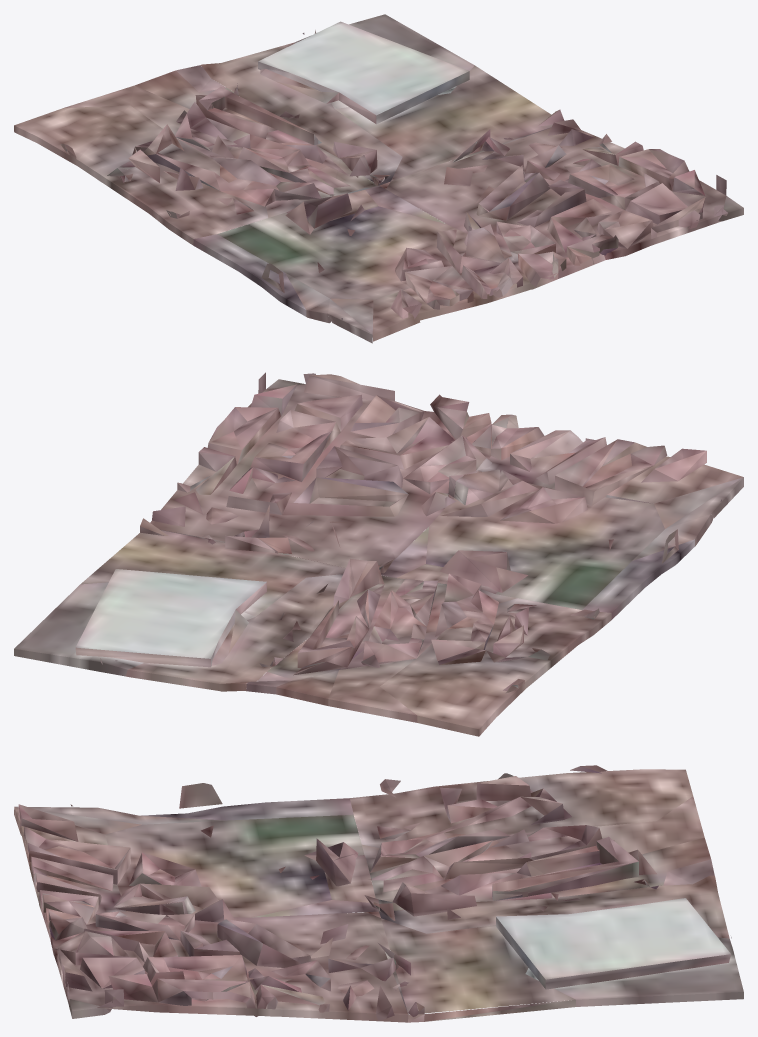
3 renders of one model, top to bottom at view 1: azimuth 30°, elevation 25°; view 2: azimuth 150°, elevation 25°; view 3: azimuth 270°, elevation 25°, orthographic. The views are drawn at different scales.
Visible parts, largest first — view 1: Mesh_0; view 2: Mesh_0; view 3: Mesh_0.
Boxes of the visible parts, <box> form: Mesh_0: <box>14,14,743,343</box>; Mesh_0: <box>14,372,743,736</box>; Mesh_0: <box>14,765,743,1022</box>.
Bounding box in the file's own units: 532 × 54.53 × 659.
1 material, 1 textured.
